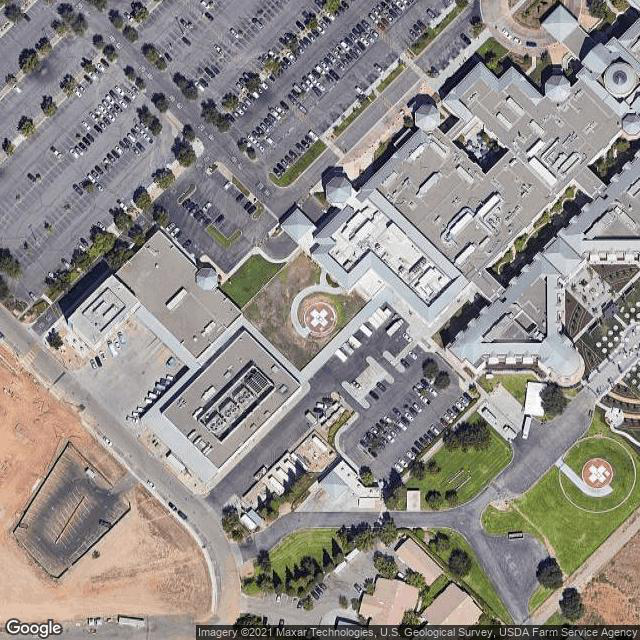Helipad: (302, 301, 337, 334), (581, 458, 618, 489)
